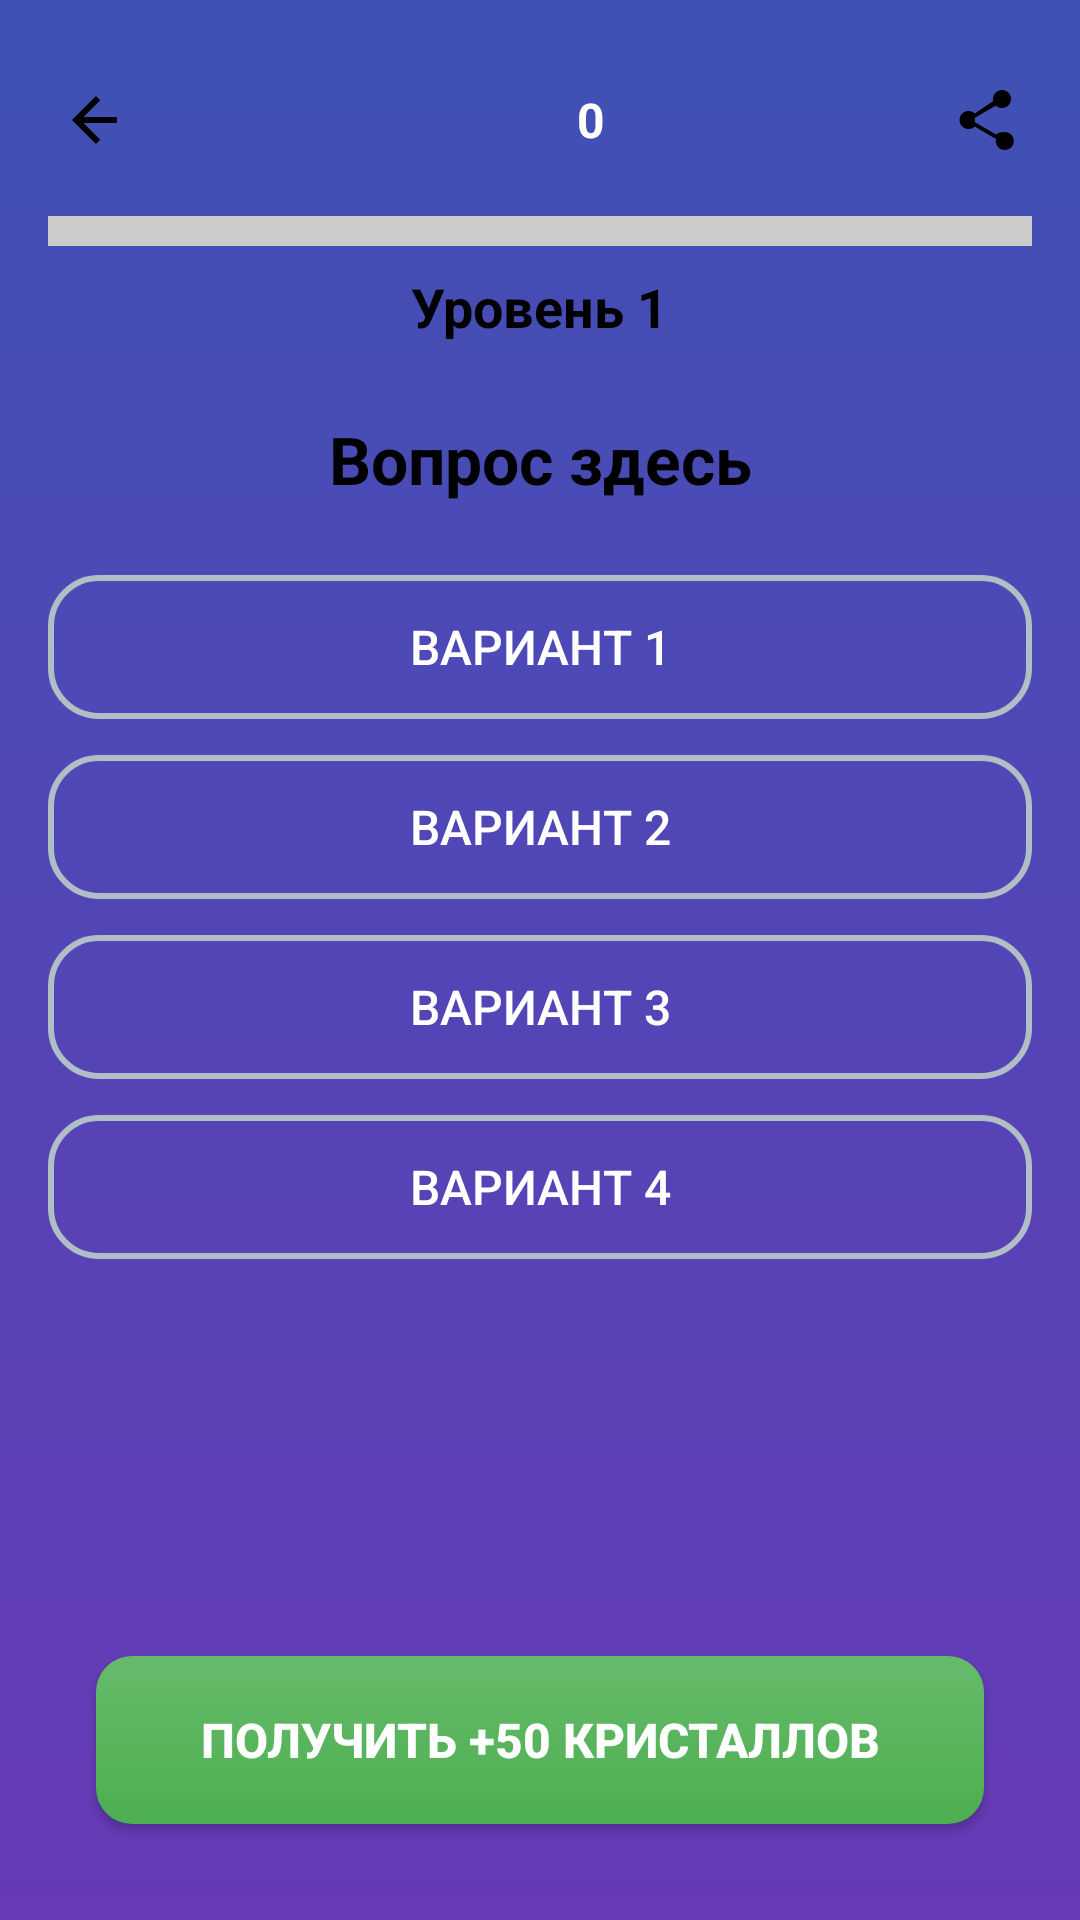

Icon bounding boxes for this 1080*1920 phone screenshot, format (x1, y1, x2, y2):
Назад: (72, 96, 117, 144)
Поделиться: (959, 90, 1014, 150)
